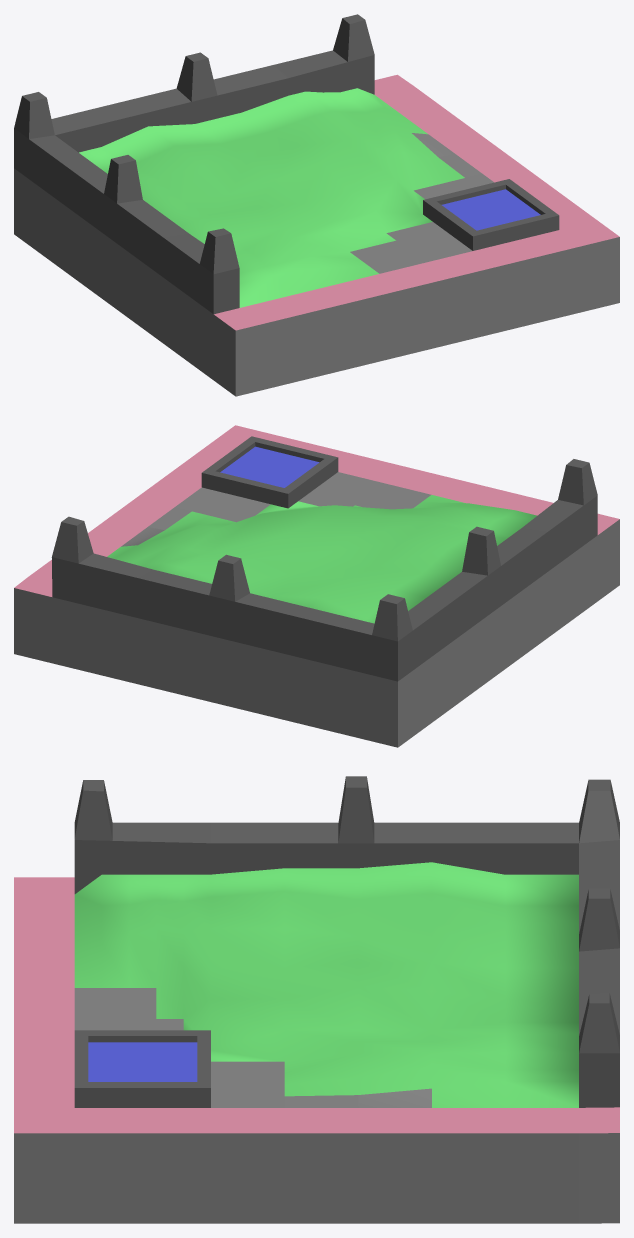
The model's file is 2x2 Park segment.fbx.
3 views of the same model, one above another, from view 1: azimuth 30°, elevation 25°; view 2: azimuth 150°, elevation 25°; view 3: azimuth 270°, elevation 25° (orthographic). The views are drawn at different scales.
Visible parts, largest first — view 1: Park 2x2 segment; view 2: Park 2x2 segment; view 3: Park 2x2 segment.
Part boxes in pixels (x1,y1,x2,y2): Park 2x2 segment: (14,14,619,396); Park 2x2 segment: (14,425,619,747); Park 2x2 segment: (14,776,619,1223).
Bounding box in the file's own units: 2 × 0.7074 × 2.
